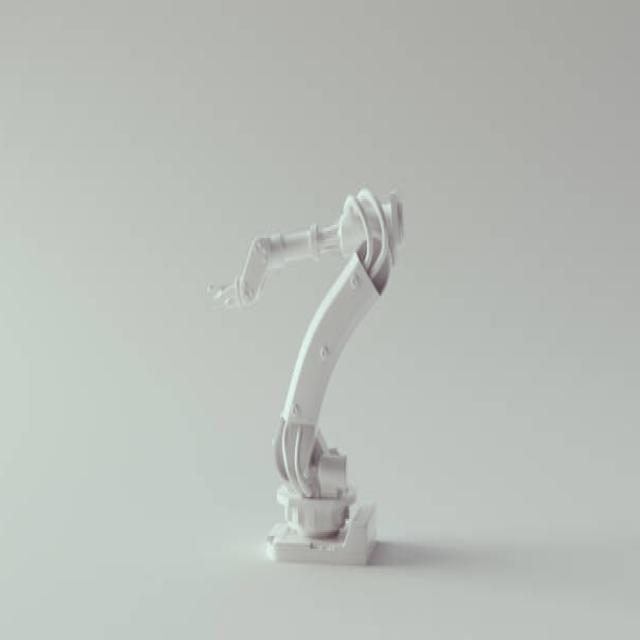Robotic-arm: (200, 180, 404, 582)
